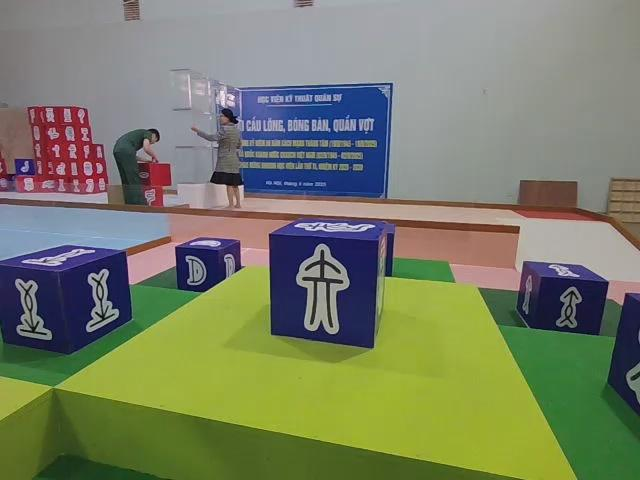R2 Fake Blue: (268, 217, 392, 348)
R2 Real Blue: (1, 245, 132, 355), (516, 262, 607, 336), (175, 237, 242, 292)
